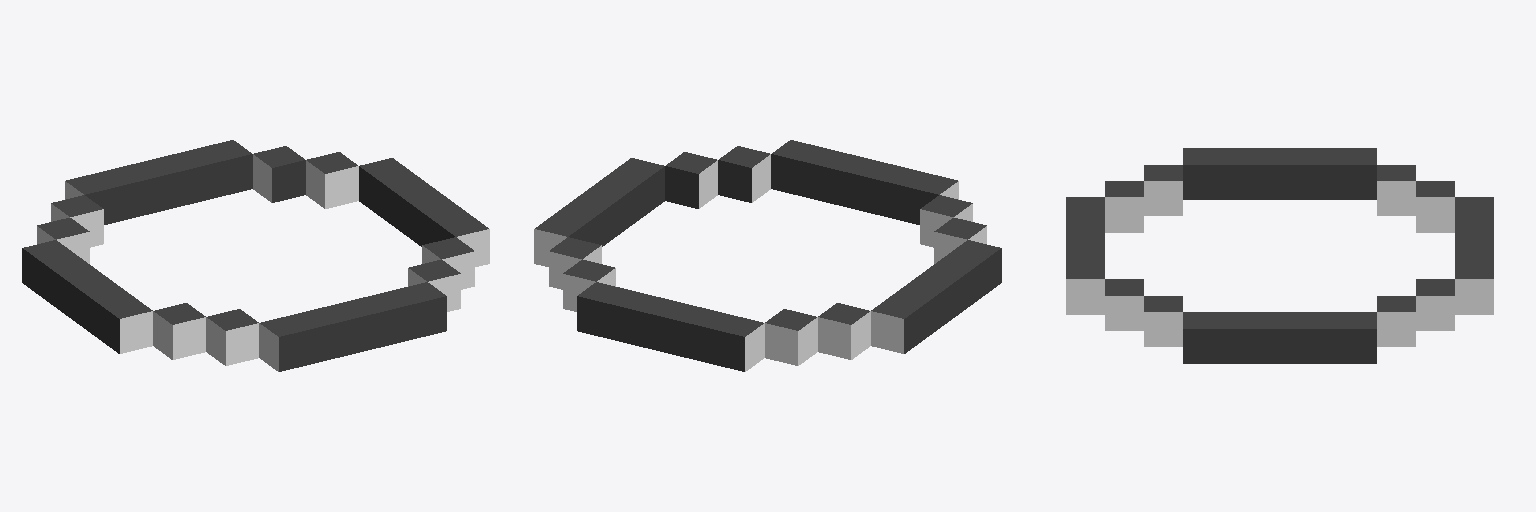
File: RingSummon.obj
The picture shows the model from 3 angles: view 1: azimuth 30°, elevation 25°; view 2: azimuth 150°, elevation 25°; view 3: azimuth 270°, elevation 25°; orthographic projection.
Visible parts, largest first — view 1: pCube38 RingFinalSummon; view 2: pCube38 RingFinalSummon; view 3: pCube38 RingFinalSummon.
Boxes of the visible parts, box(x1,y1,x2,y2) form: pCube38 RingFinalSummon: box(22, 140, 489, 371); pCube38 RingFinalSummon: box(534, 140, 1001, 371); pCube38 RingFinalSummon: box(1066, 148, 1493, 363).
Bounding box in the file's own units: 0.33 × 0.03 × 0.33.